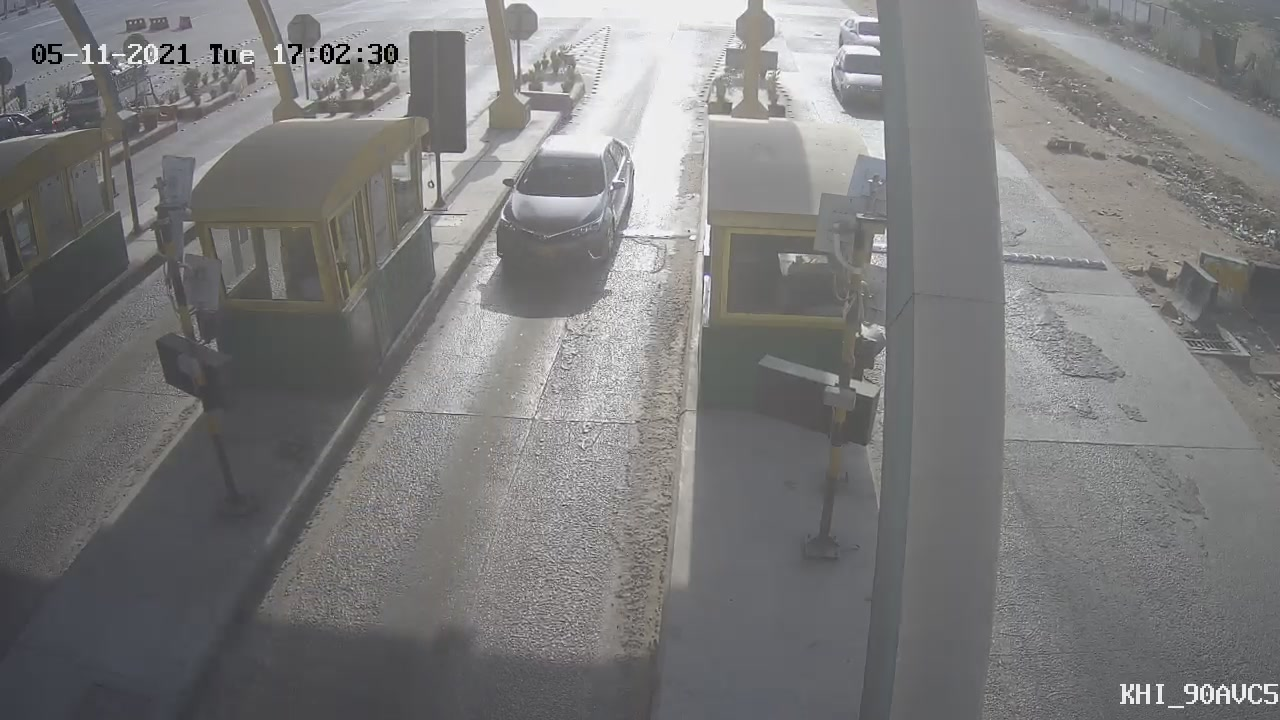F1: (468, 113, 659, 308)
